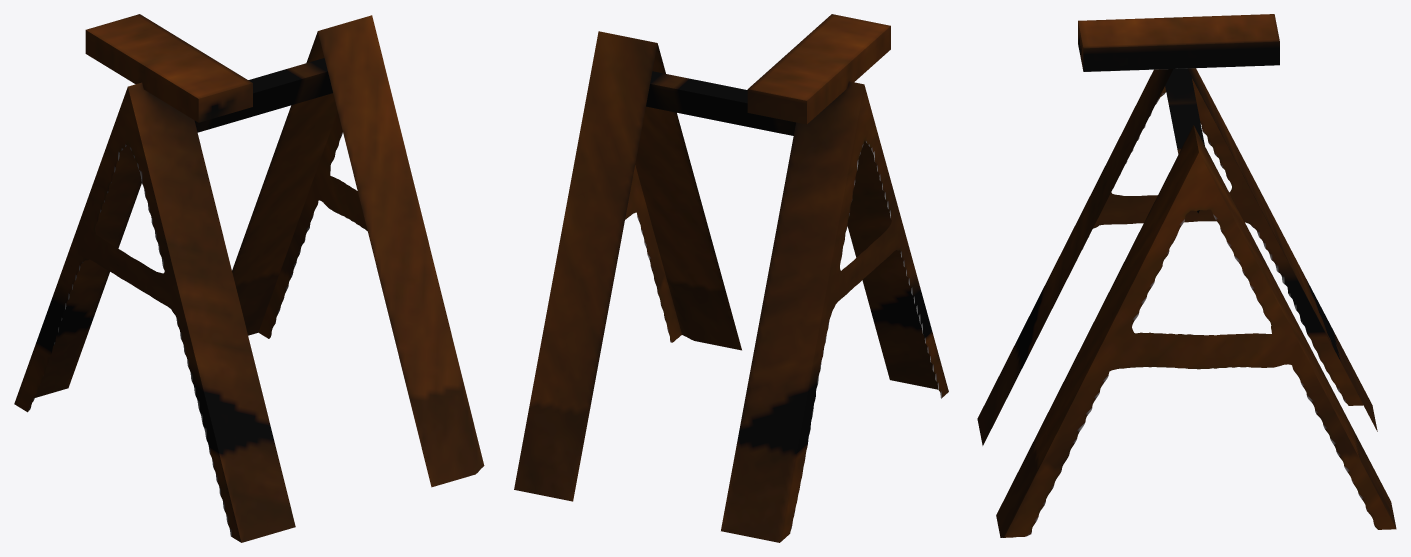
Rendered from waterwheel.DAE.
3 views of the same model, side by side, from view 1: azimuth 30°, elevation 25°; view 2: azimuth 150°, elevation 25°; view 3: azimuth 270°, elevation 25° (orthographic).
Parts seen in each view (by area): view 1: waterwheel_PIVOT; view 2: waterwheel_PIVOT; view 3: waterwheel_PIVOT.
Boxes of the visible parts, x1,y1,x2,y2 form: waterwheel_PIVOT: (14,14,484,542); waterwheel_PIVOT: (514,14,948,542); waterwheel_PIVOT: (977,14,1396,537).
Size of the model in its own units: 169 by 218 by 230.
